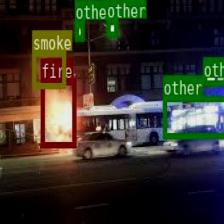fire: (40, 78, 75, 146)
smoke: (32, 50, 65, 88)
